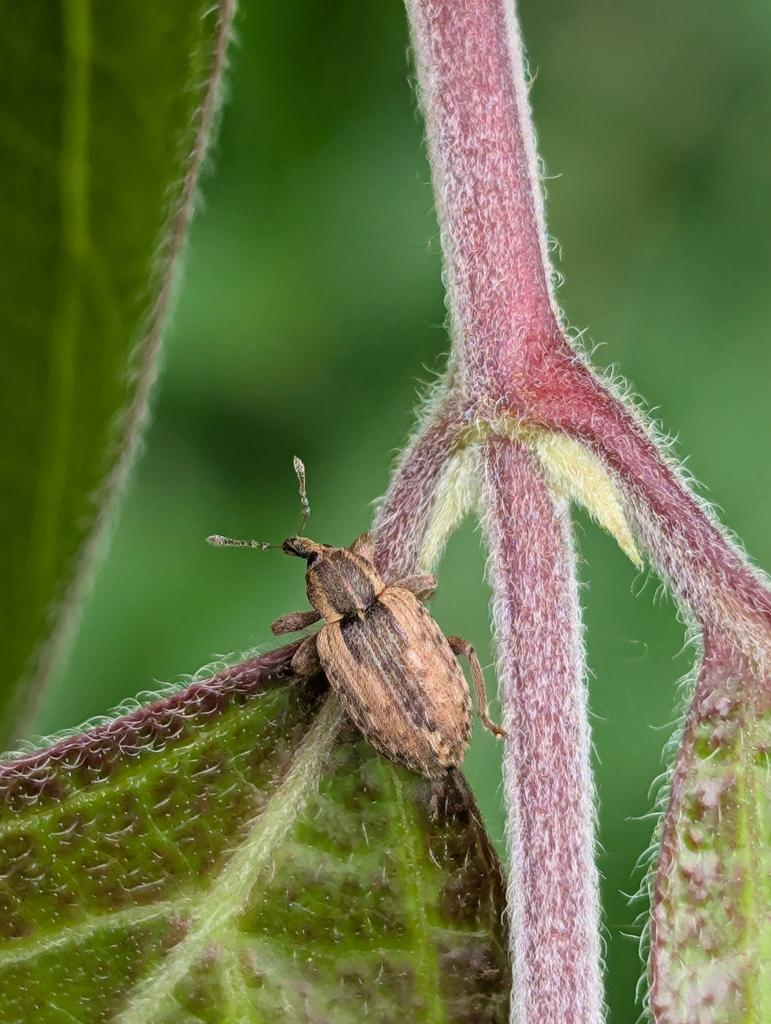weevils: (147, 416, 599, 840)
